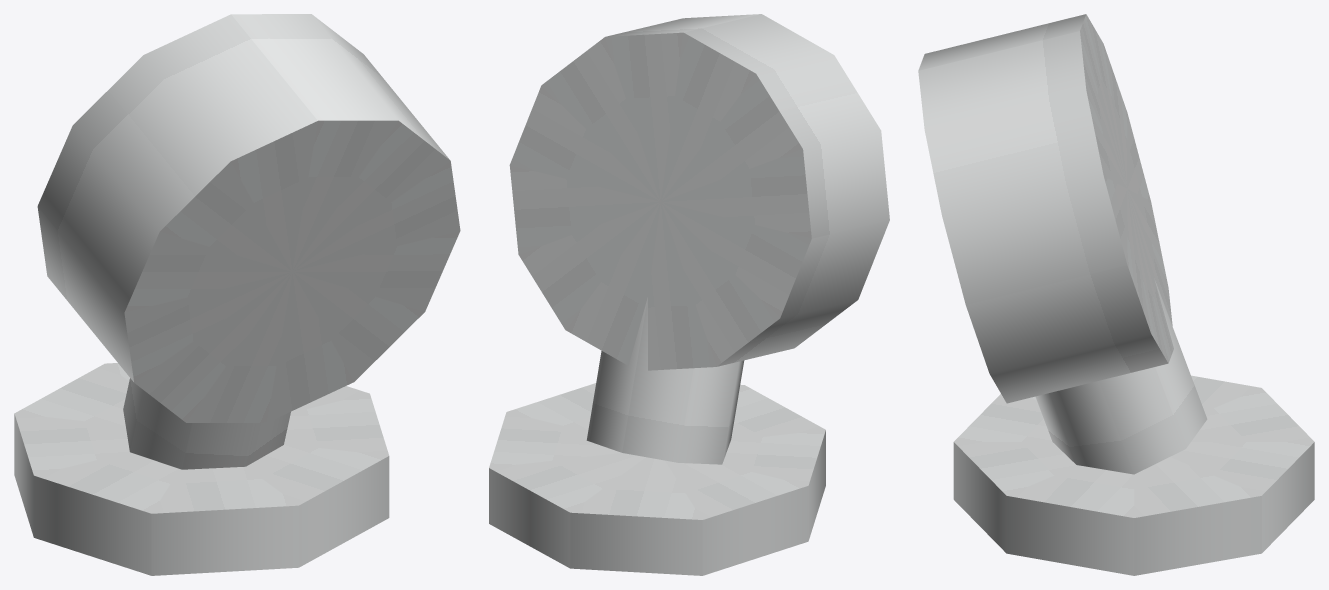
The model's file is trusssignalarm_stub_76.obj.
The picture shows the model from 3 angles, left to right: view 1: azimuth 30°, elevation 25°; view 2: azimuth 150°, elevation 25°; view 3: azimuth 270°, elevation 25°; orthographic projection. The views are drawn at different scales.
Visible parts, largest first — view 1: trusssignalarm_stub_76; view 2: trusssignalarm_stub_76; view 3: trusssignalarm_stub_76.
Boxes of the visible parts, box(x1,y1,x2,y2) form: trusssignalarm_stub_76: box(14, 14, 460, 575); trusssignalarm_stub_76: box(489, 14, 889, 575); trusssignalarm_stub_76: box(918, 14, 1314, 575).
Size of the model in its own units: 0.35 by 0.5014 by 0.3844.
